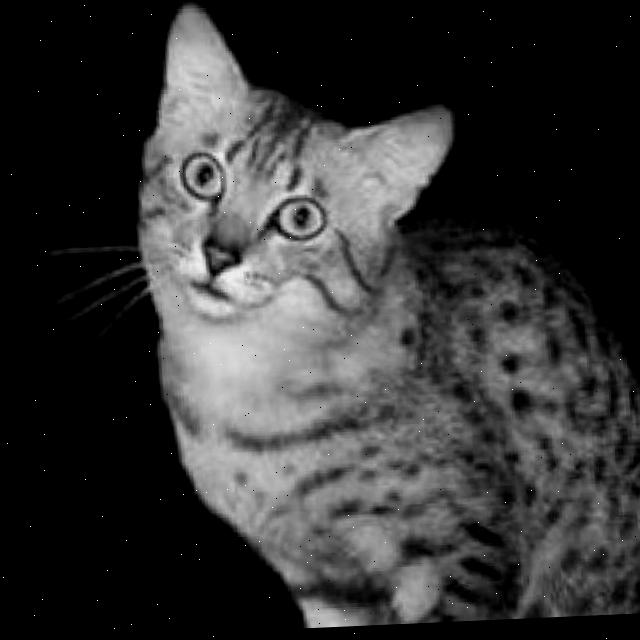Cat: (123, 0, 640, 632)
